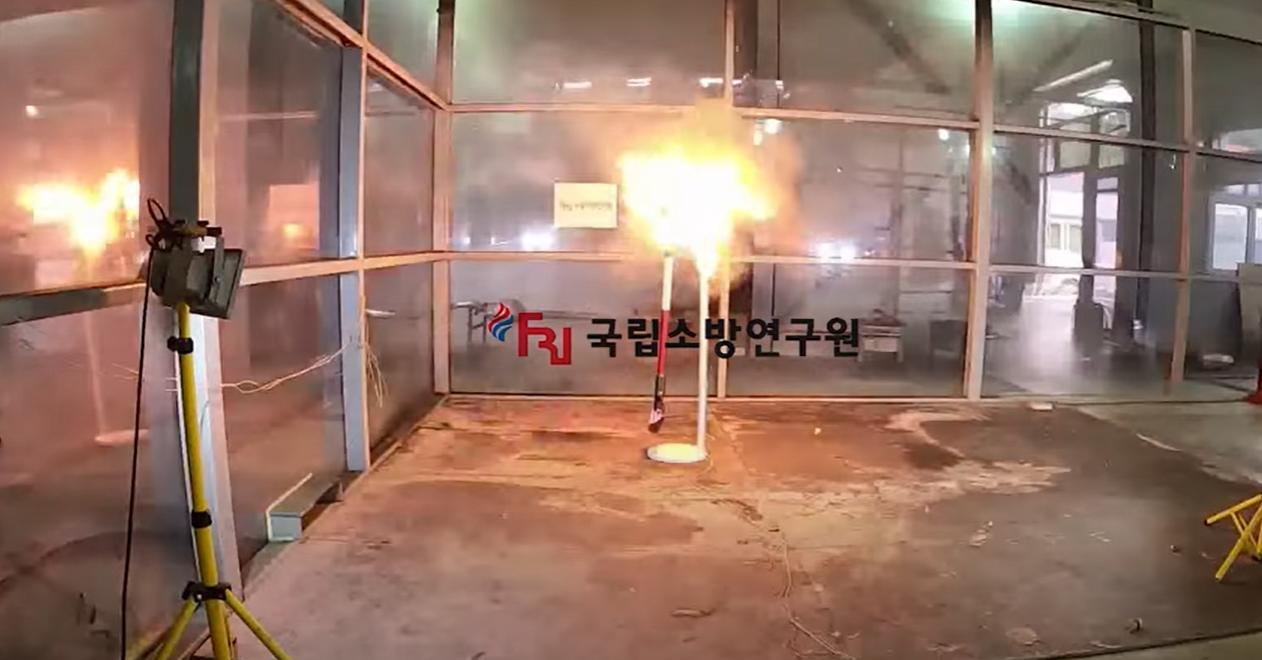fire: (619, 141, 777, 275), (17, 168, 139, 256)
